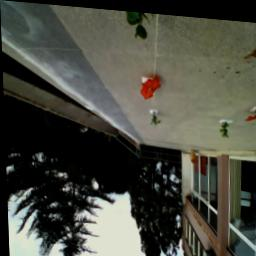herb: (127, 10, 151, 39), (220, 118, 230, 137), (150, 109, 161, 126)
wild: (140, 70, 163, 101), (246, 106, 256, 121)
